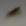cockroach: (7, 6, 21, 16)
